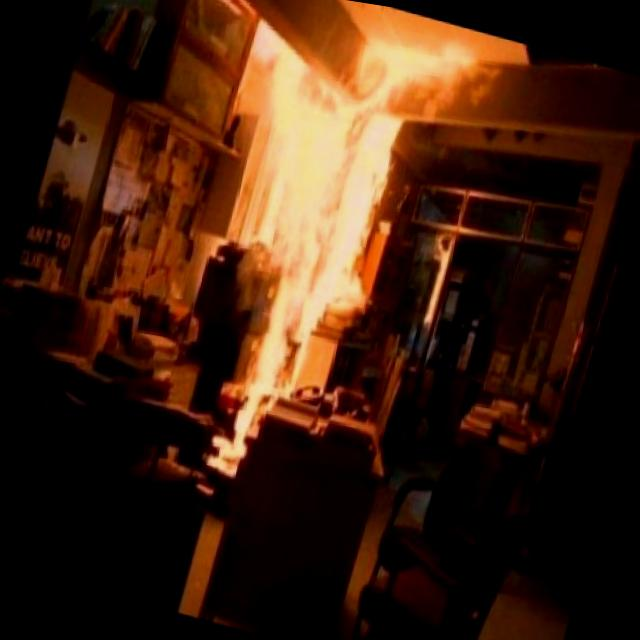fire: (132, 0, 475, 526)
